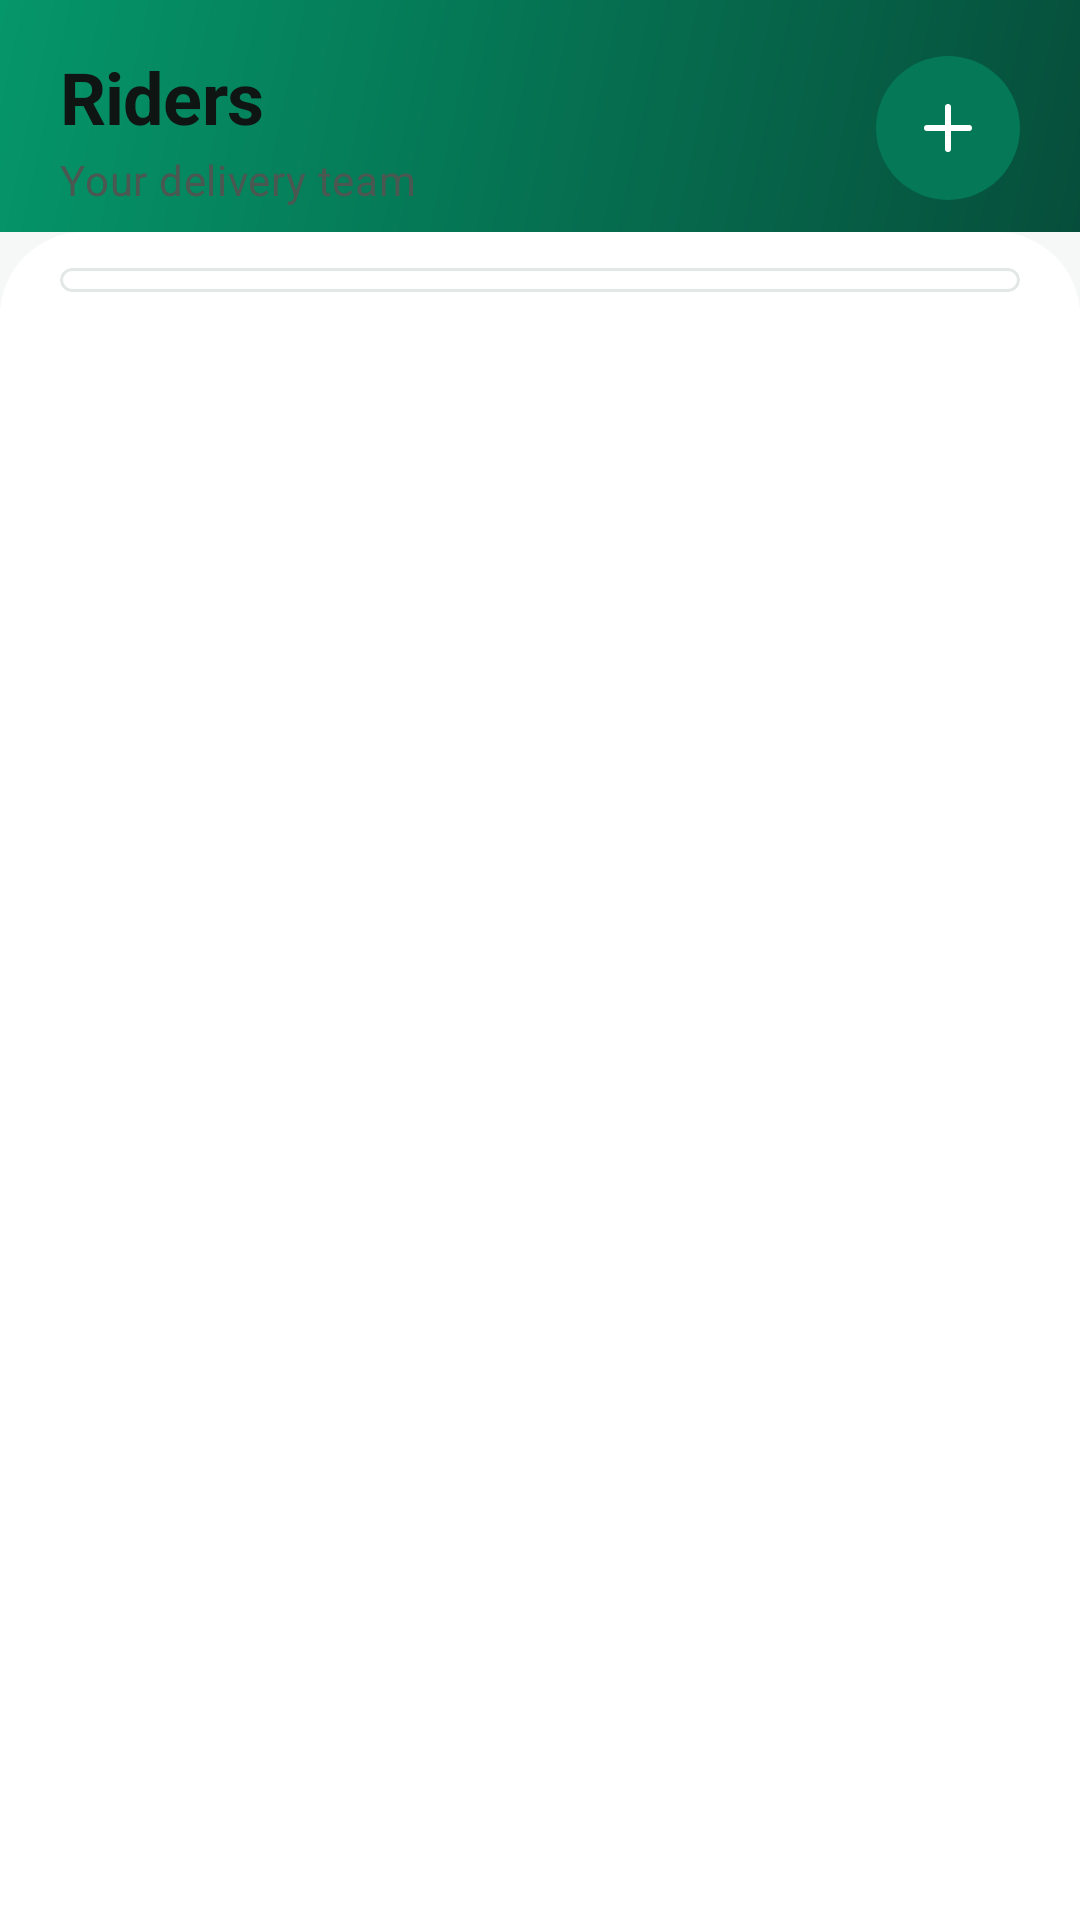

Screen size 1080×1920. Icon name, then its center in pixels as [x,y]:
Add rider: [948,128]
